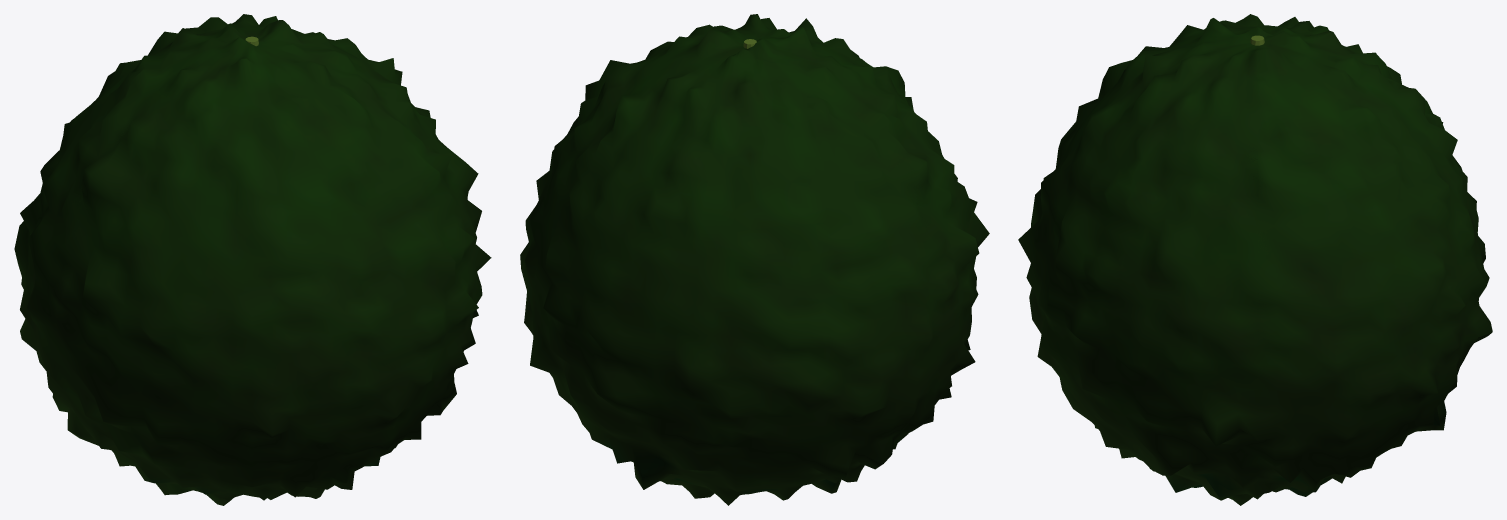
File: combava.glb
3 views of the same model, side by side, from view 1: azimuth 30°, elevation 25°; view 2: azimuth 150°, elevation 25°; view 3: azimuth 270°, elevation 25° (orthographic).
Parts seen in each view (by area): view 1: entier_peau, moitie_B_peau, moitie_A_peau; view 2: entier_peau, moitie_A_peau, moitie_B_peau; view 3: entier_peau, moitie_B_peau, moitie_A_peau.
Part boxes in pixels (x1,y1,x2,y2): entier_peau: [14, 14, 491, 505]; moitie_B_peau: [51, 27, 488, 505]; moitie_A_peau: [15, 15, 401, 465]; entier_peau: [520, 14, 989, 505]; moitie_A_peau: [521, 28, 946, 504]; moitie_B_peau: [647, 14, 989, 487]; entier_peau: [1018, 14, 1492, 505]; moitie_B_peau: [1020, 16, 1257, 503]; moitie_A_peau: [1257, 18, 1492, 497].
Bounding box in the file's own units: 2.01 × 2.13 × 2.03.
